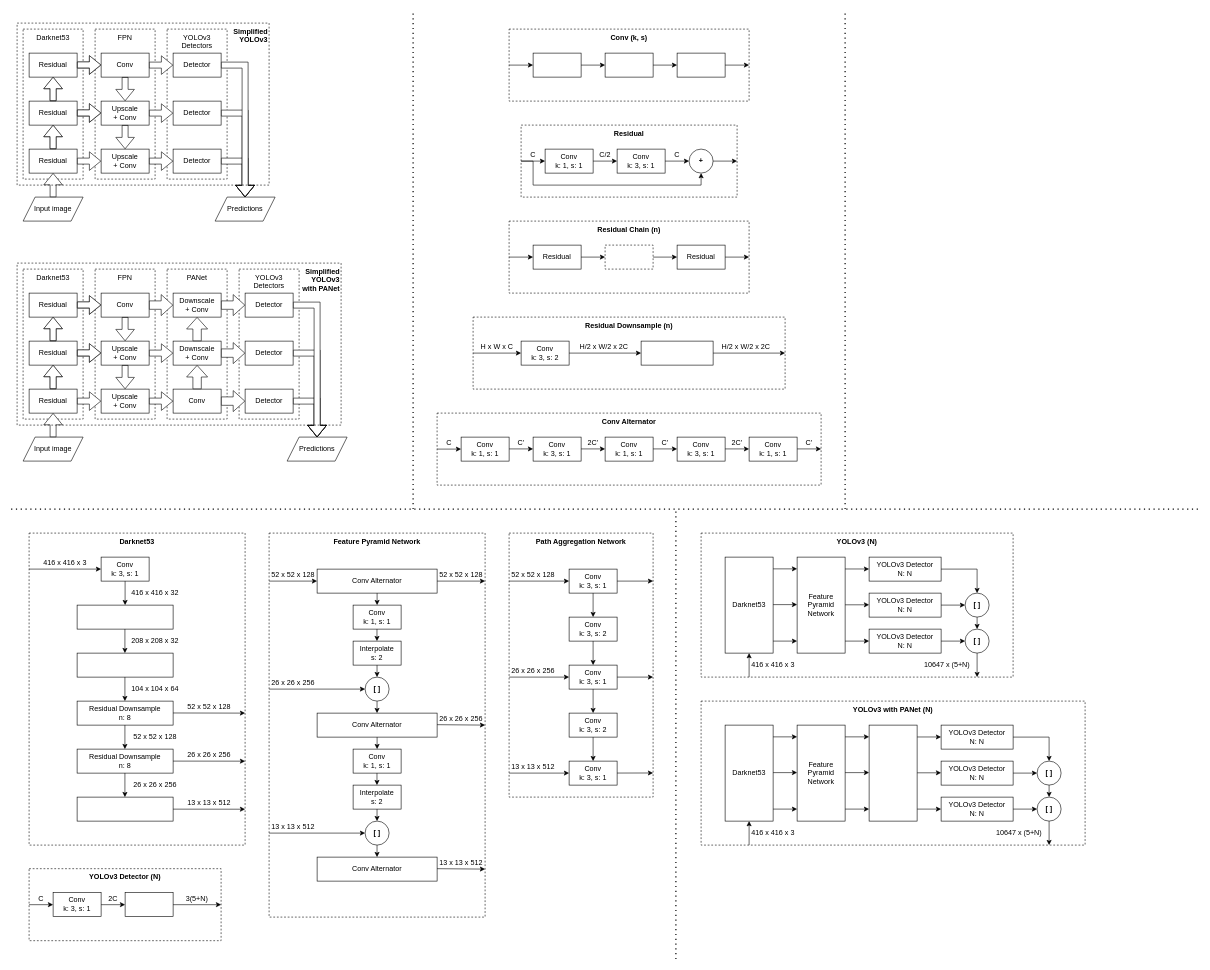
The diagram is 1210 pixels wide and 970 high, and some of its shapes have lost their labels. Each missing label, with the centre of its shape:
Batch Norm: (x=628, y=64)
Conv2D k: 1, s: 1: (x=148, y=904)
Conv2D k: k, s: s: (x=556, y=64)
LeakyReLU: (x=700, y=64)
n times: (x=628, y=256)
Path Aggregation Netowrk: (x=892, y=772)
Residual Chain n: n: (x=676, y=352)
Residual Downsample n: 1: (x=124, y=616)
Residual Downsample n: 2: (x=124, y=664)
Residual Downsample n: 4: (x=124, y=808)
